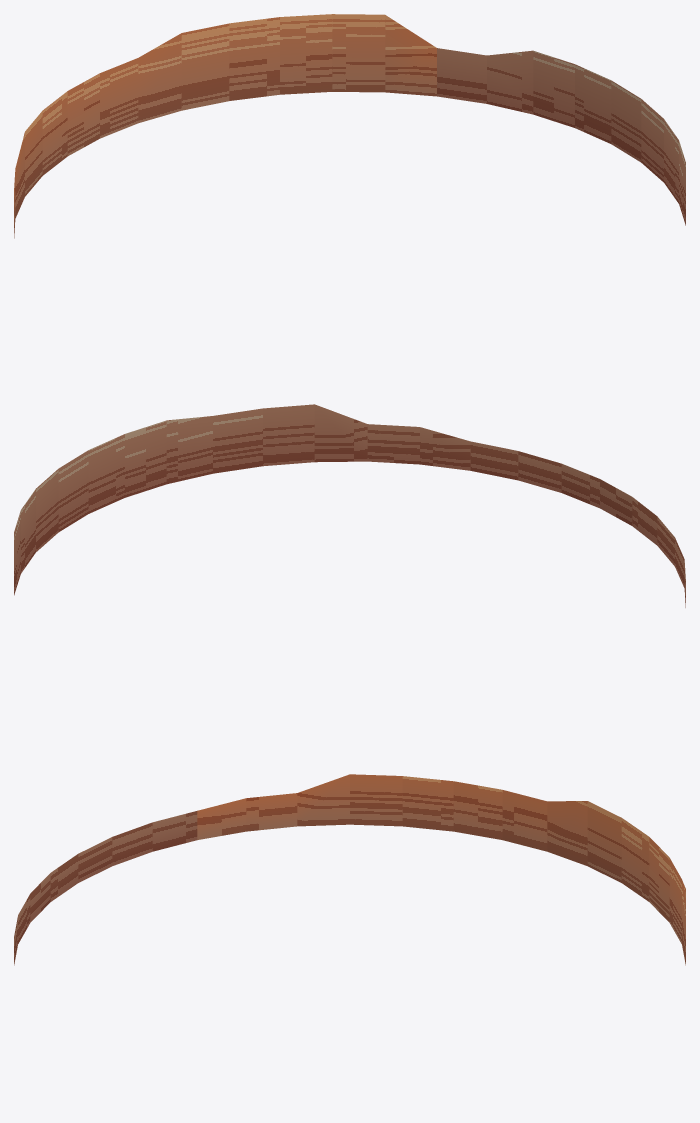
The model's file is wsky.mesas__town.glb.
3 views of the same model, one above another, from view 1: azimuth 30°, elevation 25°; view 2: azimuth 150°, elevation 25°; view 3: azimuth 270°, elevation 25° (orthographic).
Parts seen in each view (by area): view 1: kit_shell_mesas; view 2: kit_shell_mesas; view 3: kit_shell_mesas.
Boxes of the visible parts, x1=… form: kit_shell_mesas: x1=14, y1=14, x2=685, y2=238; kit_shell_mesas: x1=14, y1=404, x2=685, y2=607; kit_shell_mesas: x1=14, y1=774, x2=685, y2=965.
Size of the model in its own units: 96 by 12.24 by 96.
1 material, 1 textured.
